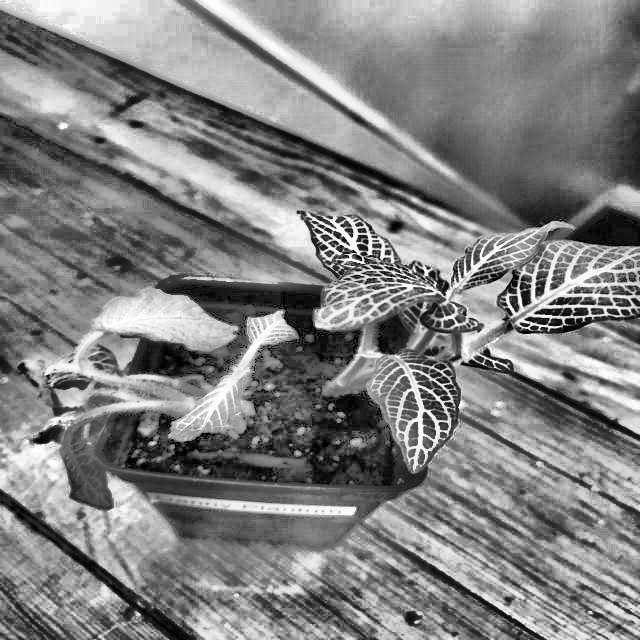plants: (306, 202, 639, 481), (22, 270, 297, 514)
